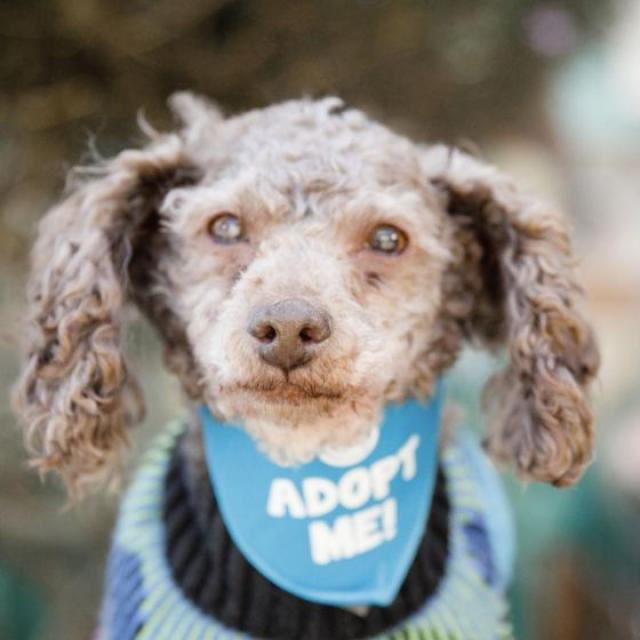Poodle_dog: (14, 80, 604, 510)
